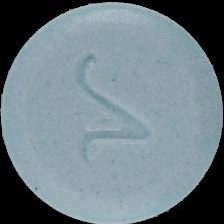50090-0148: (0, 0, 224, 224)
